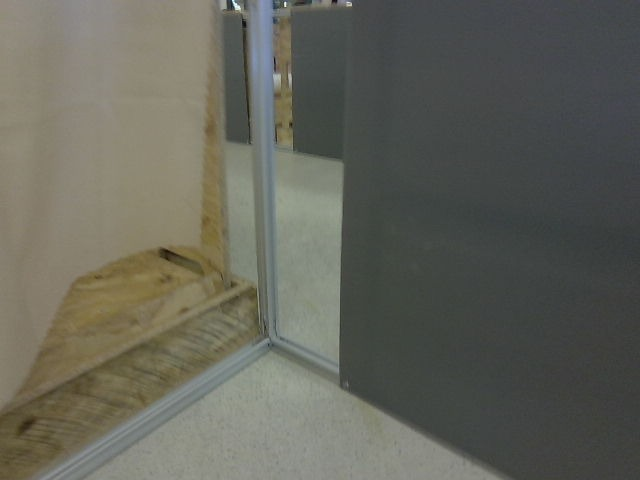curtain: (0, 0, 230, 269)
